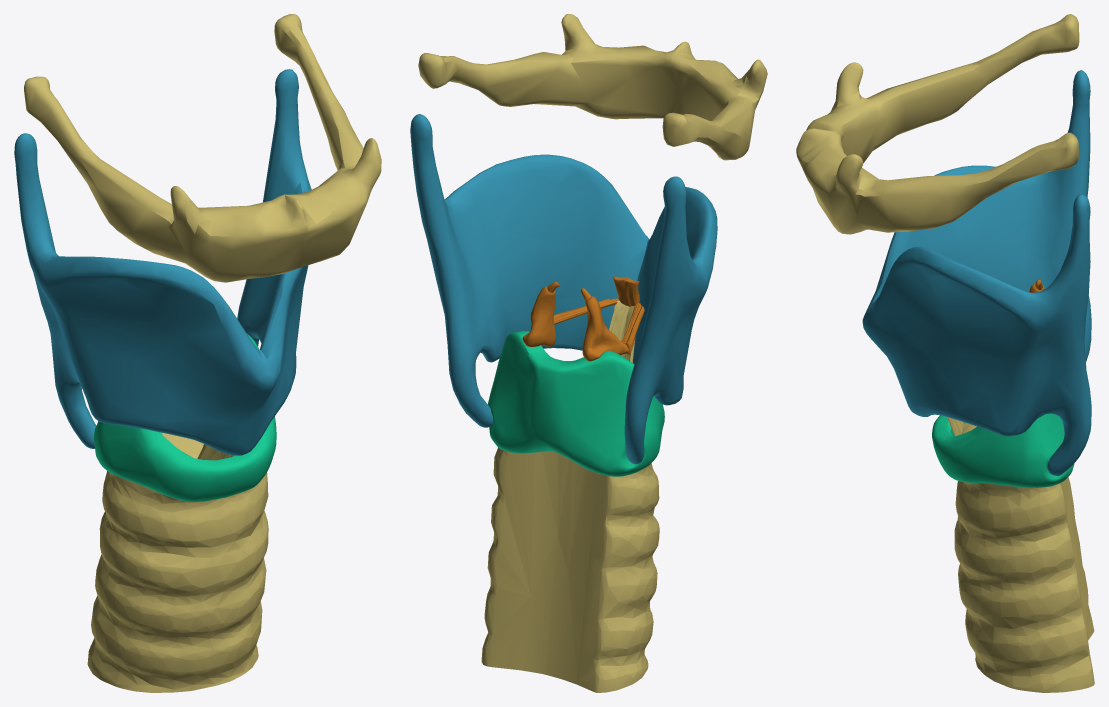
File: fbx_frame_0015.obj
3 renders of one model, left to right at view 1: azimuth 30°, elevation 25°; view 2: azimuth 150°, elevation 25°; view 3: azimuth 270°, elevation 25°, orthographic. The views are drawn at different scales.
Visible parts, largest first — view 1: maya2sketchfab.010, maya2sketchfab.001, maya2sketchfab.011, maya2sketchfab.005; view 2: maya2sketchfab.010, maya2sketchfab.001, maya2sketchfab.011, maya2sketchfab.005, maya2sketchfab.004, maya2sketchfab.006, maya2sketchfab.007; view 3: maya2sketchfab.010, maya2sketchfab.001, maya2sketchfab.011, maya2sketchfab.005.
Boxes of the visible parts, box(x1,y1,x2,y2) form: maya2sketchfab.010: box(14, 69, 311, 455); maya2sketchfab.001: box(87, 432, 268, 692); maya2sketchfab.011: box(24, 14, 381, 282); maya2sketchfab.005: box(94, 334, 276, 501); maya2sketchfab.010: box(410, 114, 717, 464); maya2sketchfab.001: box(481, 300, 659, 692); maya2sketchfab.011: box(418, 14, 767, 160); maya2sketchfab.005: box(488, 331, 664, 476); maya2sketchfab.004: box(580, 288, 632, 361); maya2sketchfab.006: box(522, 281, 559, 346); maya2sketchfab.007: box(613, 276, 639, 306); maya2sketchfab.010: box(862, 70, 1091, 476); maya2sketchfab.001: box(946, 417, 1094, 692); maya2sketchfab.011: box(796, 14, 1079, 234); maya2sketchfab.005: box(932, 413, 1074, 487).
Bounding box in the file's own units: 38.66 × 78.84 × 36.7.
